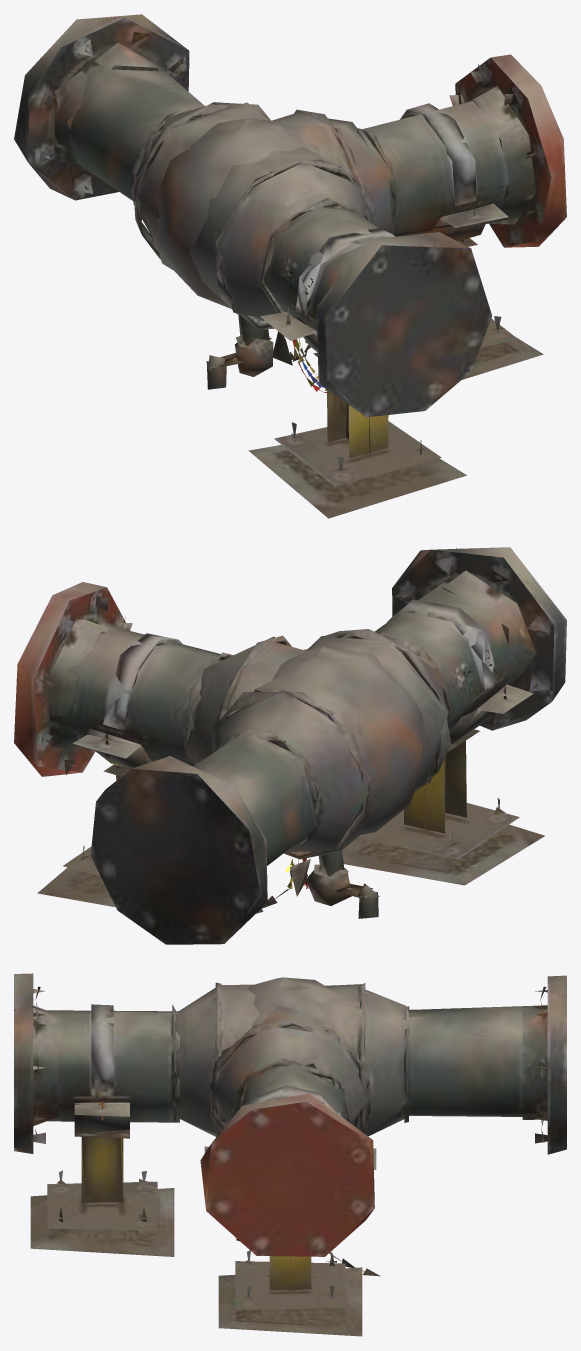
File: cano_t.glb
The picture shows the model from 3 angles, top to bottom: view 1: azimuth 30°, elevation 25°; view 2: azimuth 150°, elevation 25°; view 3: azimuth 270°, elevation 25°; orthographic projection. The views are drawn at different scales.
Parts seen in each view (by area): view 1: cano_t_corpo; view 2: cano_t_corpo; view 3: cano_t_corpo.
Boxes of the visible parts, bbox=[...] form: cano_t_corpo: bbox=[14, 14, 566, 518]; cano_t_corpo: bbox=[14, 547, 566, 944]; cano_t_corpo: bbox=[14, 973, 566, 1336].
Bounding box in the file's own units: 0.6604 × 0.4921 × 1.
2 materials, 1 textured.
